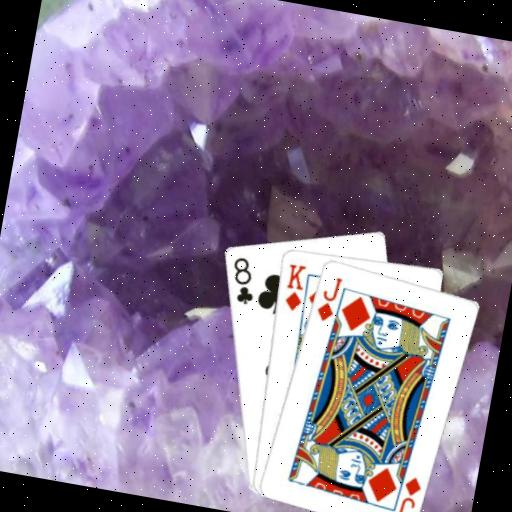8C: (223, 252, 261, 307)
JD: (312, 271, 344, 324), (392, 470, 424, 512)
KD: (278, 259, 310, 313)
